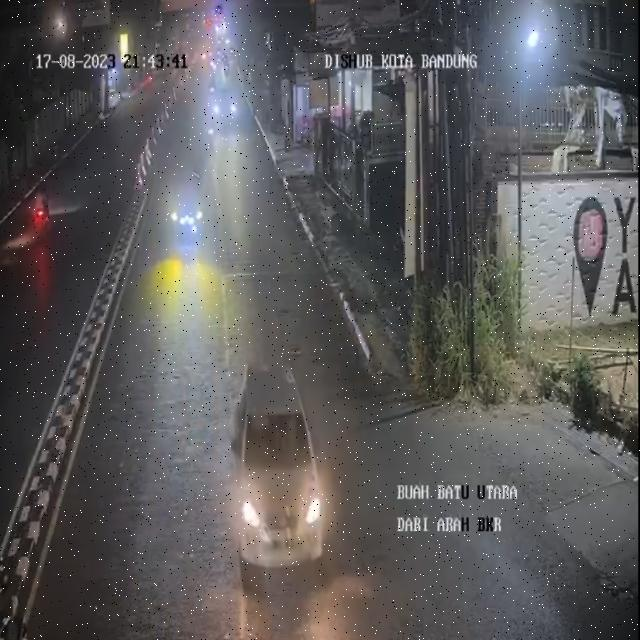cars: (231, 363, 336, 578), (165, 162, 210, 266), (208, 78, 243, 144)
